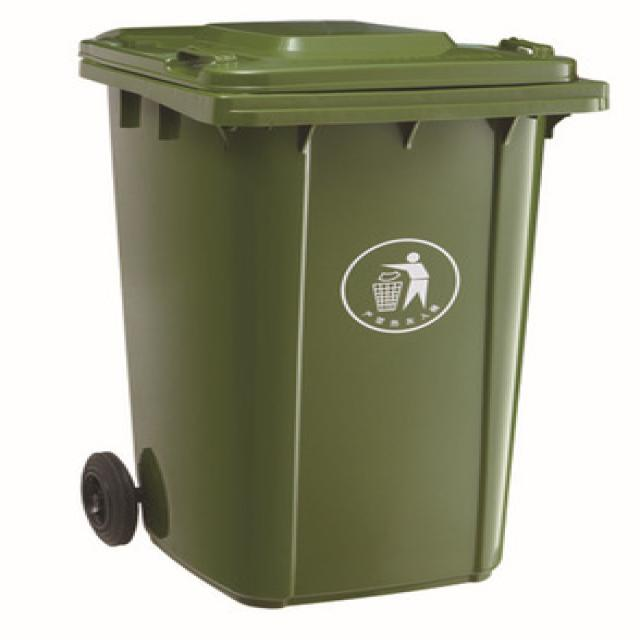garbage_bin: (74, 18, 607, 606)
